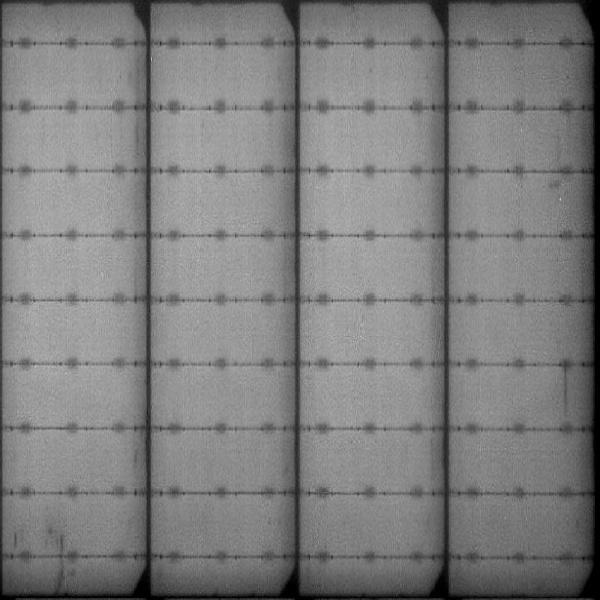scratch: (52, 559, 70, 594), (559, 367, 570, 424), (57, 528, 67, 552)
